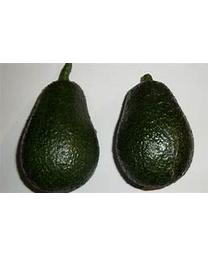avocado: (16, 77, 99, 193), (113, 81, 196, 191)
